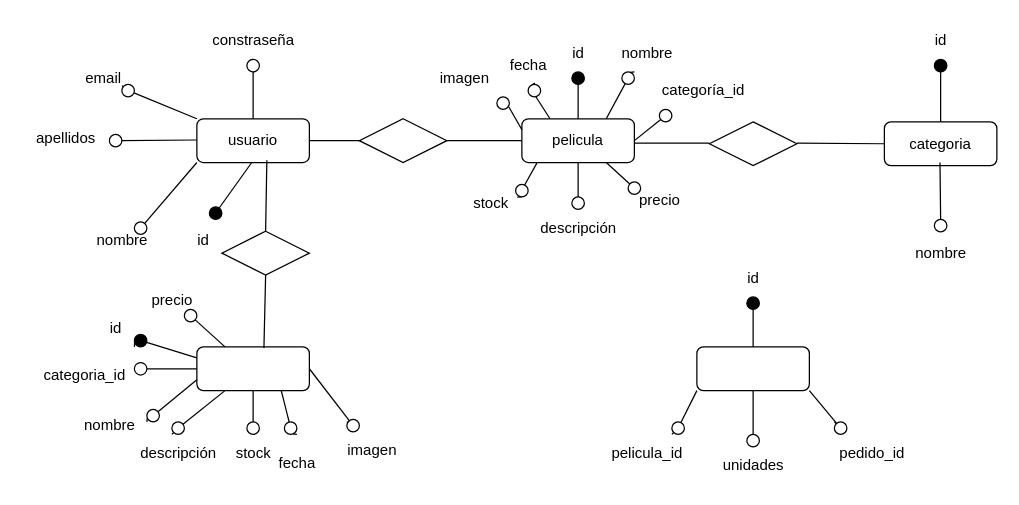
The diagram is 1019 pixels wide and 505 high, and some of its shapes have lost their labels. The shapes that lost their labels are listed below. From the top down, each one's centre as x and y in pixels, then its label:
At (252,368): "pedido".
At (752,368): "lineas_pedido".
